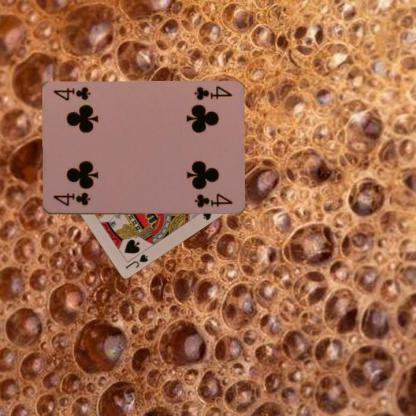4c: (191, 83, 233, 102), (51, 190, 92, 208)
Js: (123, 251, 149, 270)
